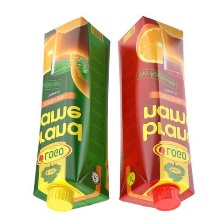carton: (115, 16, 212, 214), (31, 12, 115, 215)
